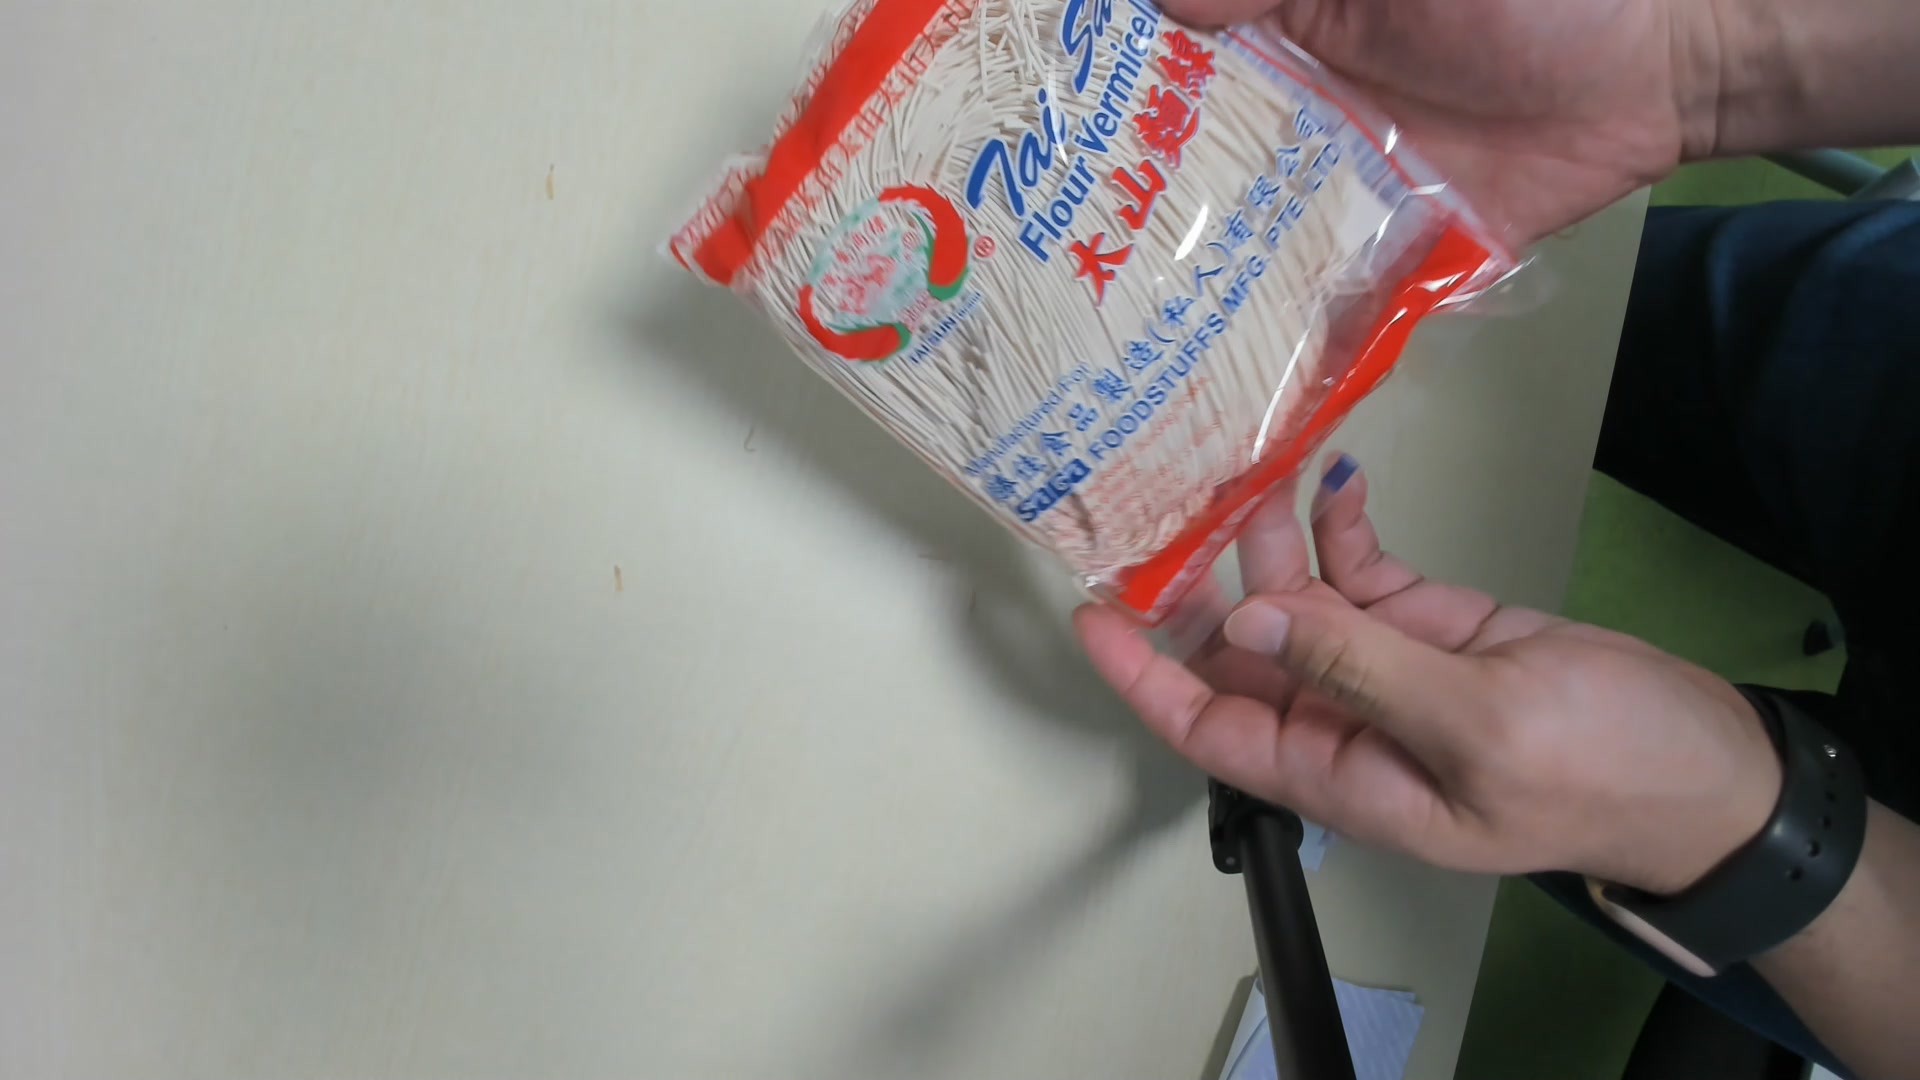BeeHoonVermicelli_100-199g_Halal_NonHealthy: (673, 1, 1547, 630)
